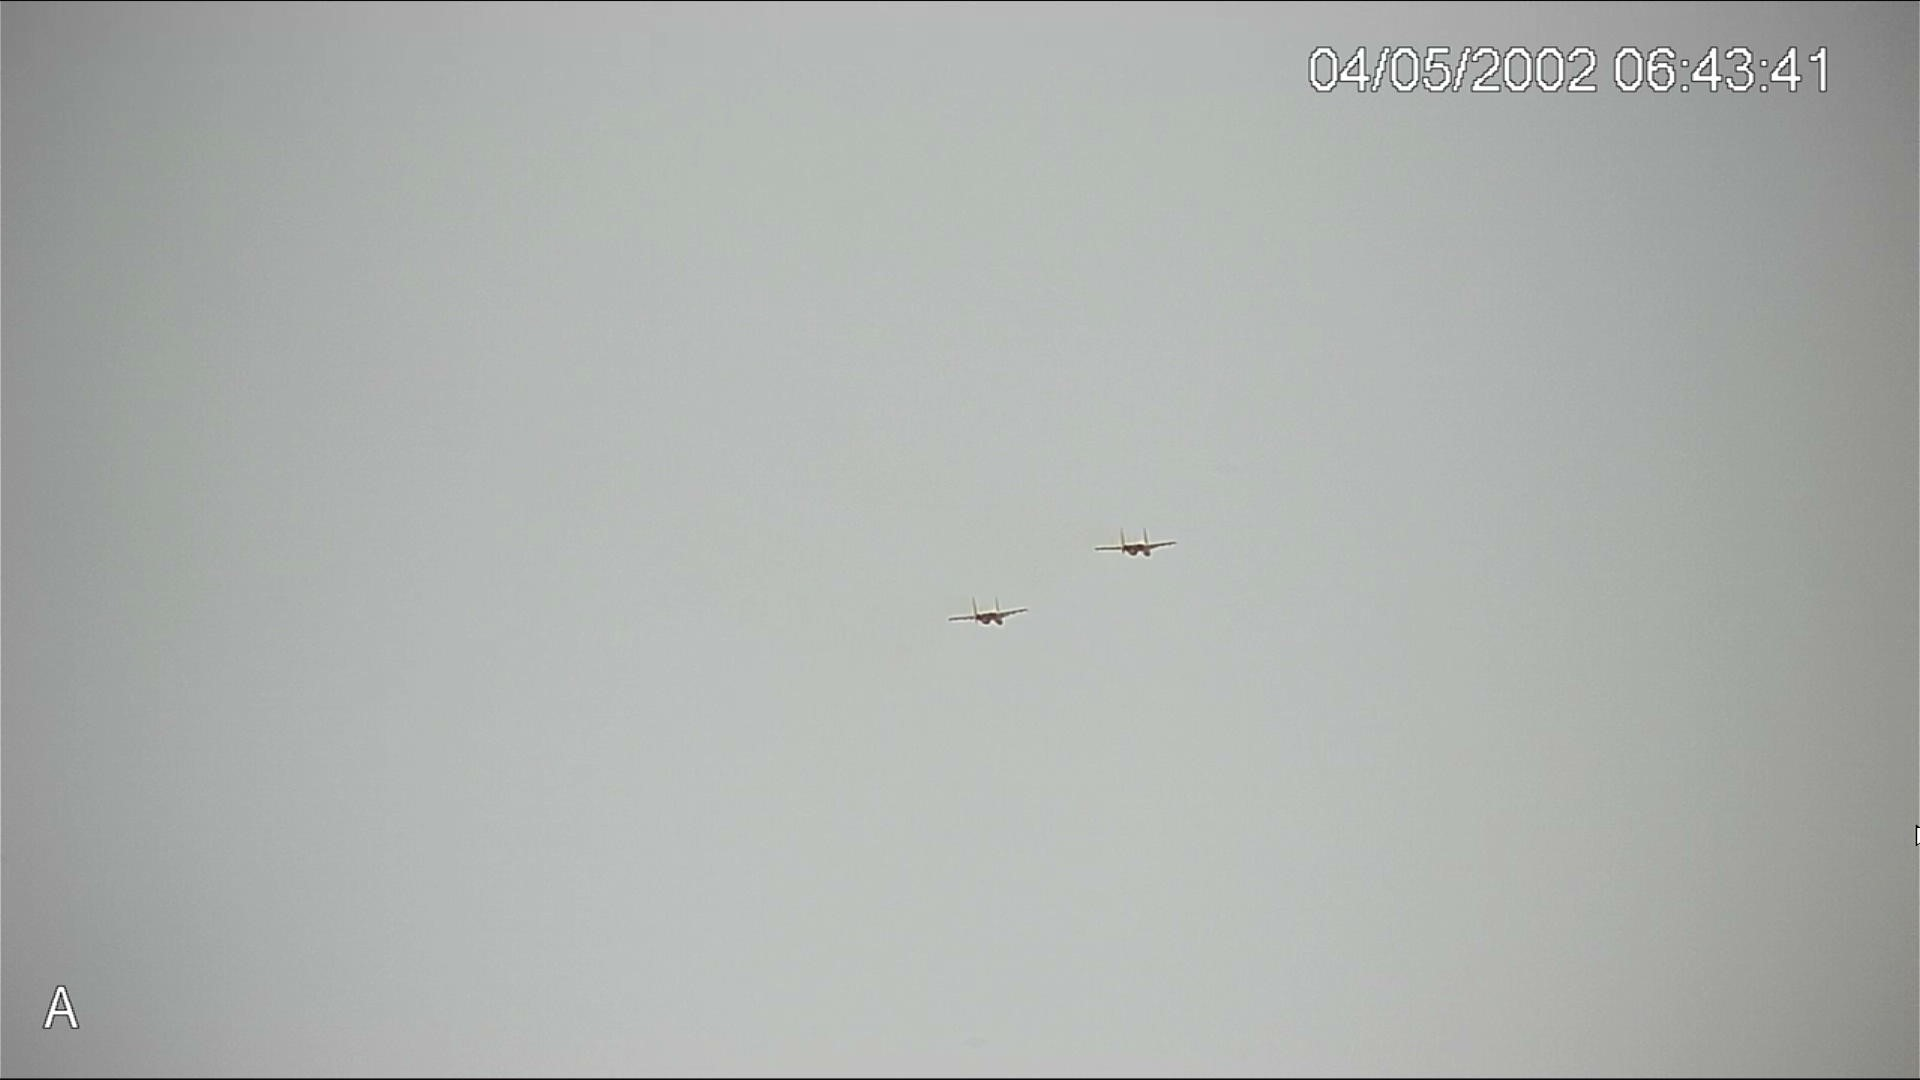SU_30: (945, 593, 1036, 629), (1093, 526, 1178, 563)
